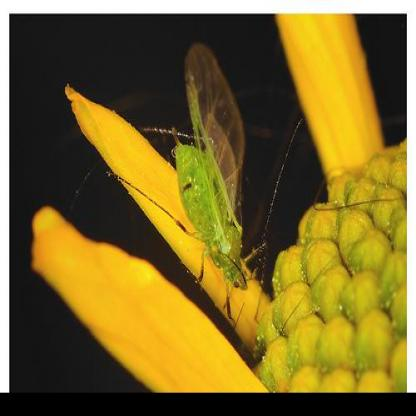aphid: (148, 47, 298, 301)
